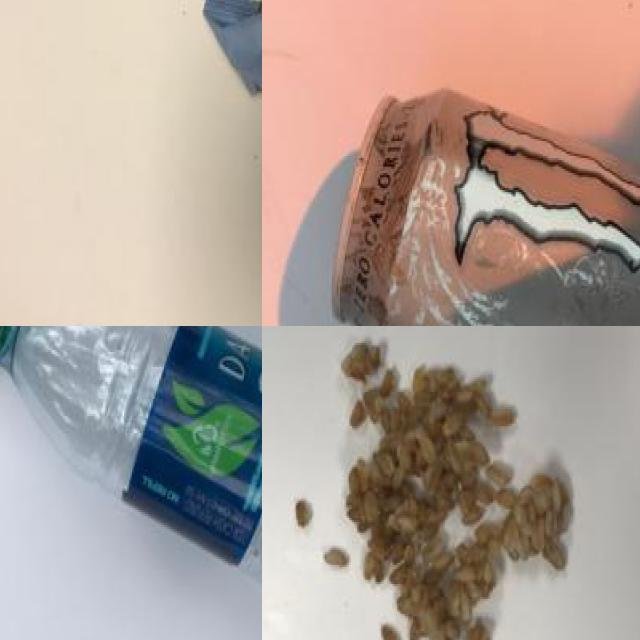compost: (262, 326, 596, 640)
plastic: (316, 72, 640, 326), (0, 326, 262, 640)
trash: (169, 0, 262, 218)
